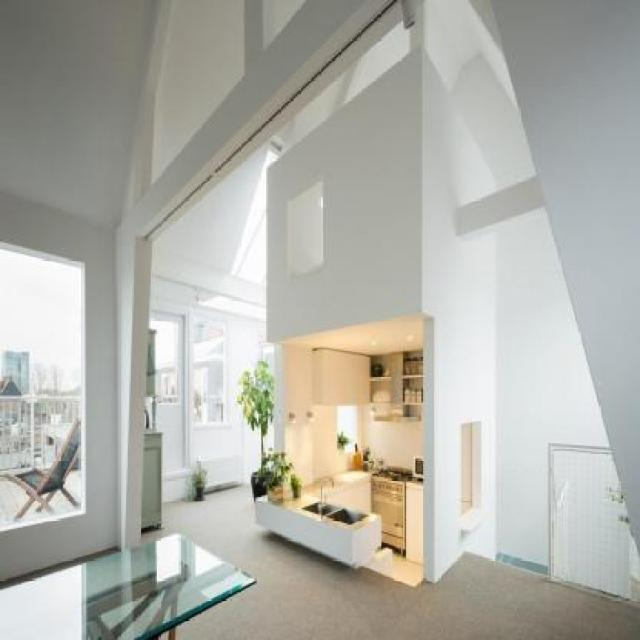Floor: (140, 485, 639, 638), (0, 546, 121, 590), (159, 632, 168, 639)
